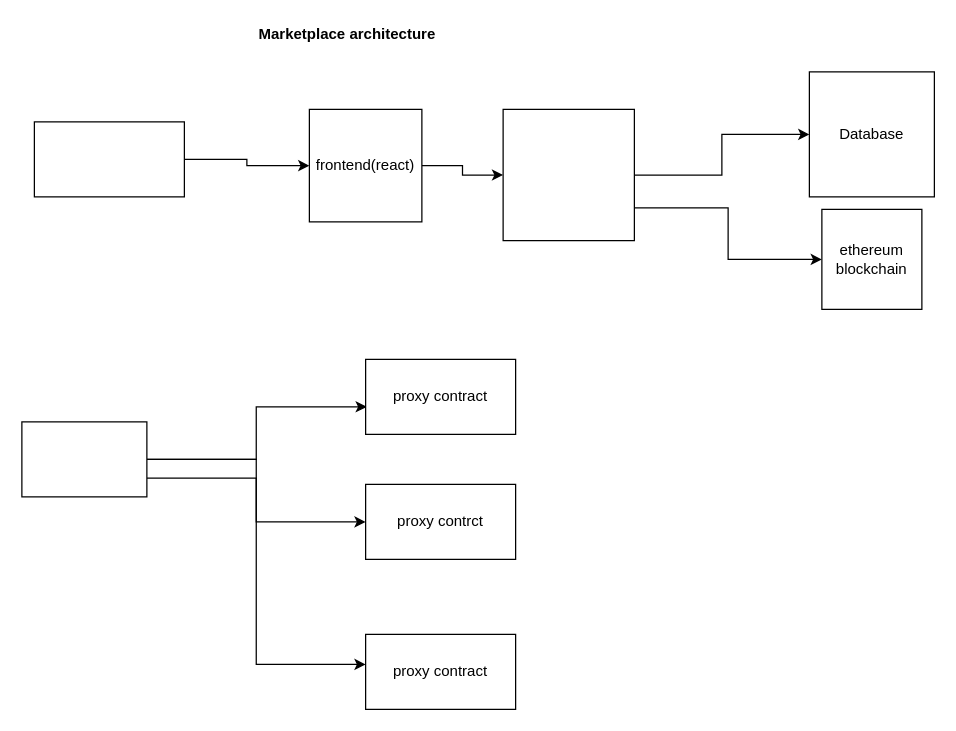
This 956x731 diagram has some shape labels left out. Here are the shapes that lost their labels. From the top down, the centre of each, then its label:
point (108, 159): wallet(metamask)
point (568, 174): backend(nodejs)
point (84, 459): proxy Registry
